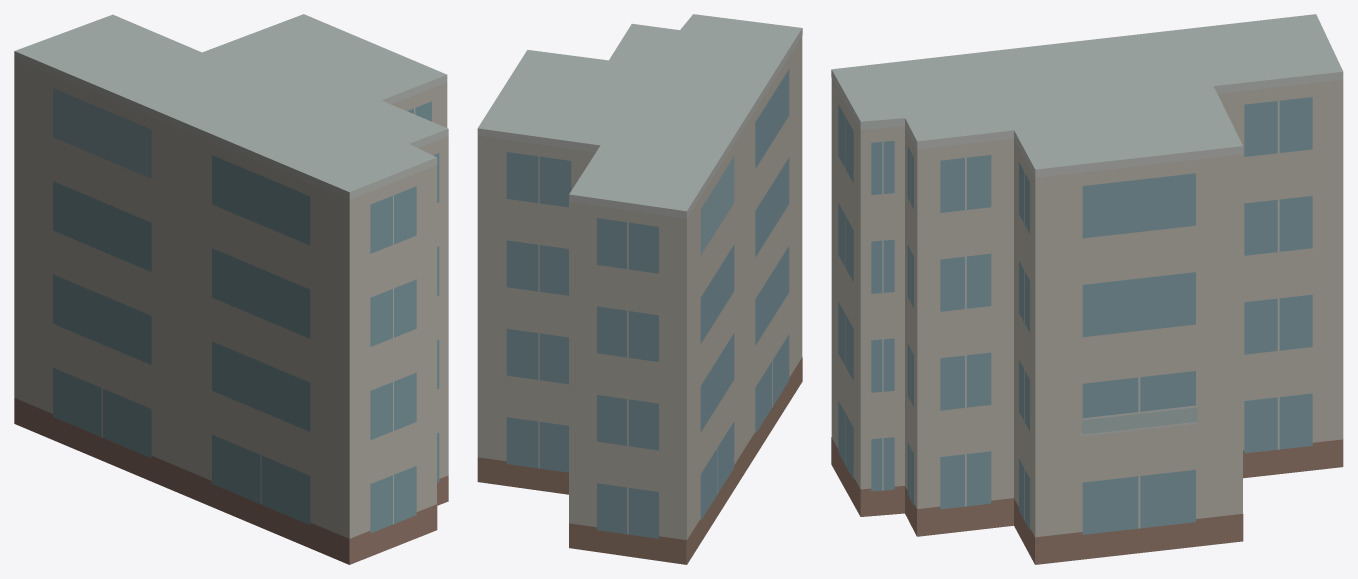
Rendered from survey-upis-32886443.glb.
3 renders of one model, left to right at view 1: azimuth 30°, elevation 25°; view 2: azimuth 150°, elevation 25°; view 3: azimuth 270°, elevation 25°, orthographic. The views are drawn at different scales.
Visible parts, largest first — view 1: survey-upis-32886443.tmp; view 2: survey-upis-32886443.tmp; view 3: survey-upis-32886443.tmp.
Boxes of the visible parts, x1,y1,x2,y2 form: survey-upis-32886443.tmp: [14, 14, 448, 564]; survey-upis-32886443.tmp: [477, 14, 802, 564]; survey-upis-32886443.tmp: [831, 14, 1343, 564].
Bounding box in the file's own units: 9.97 × 11.8 × 13.86.
